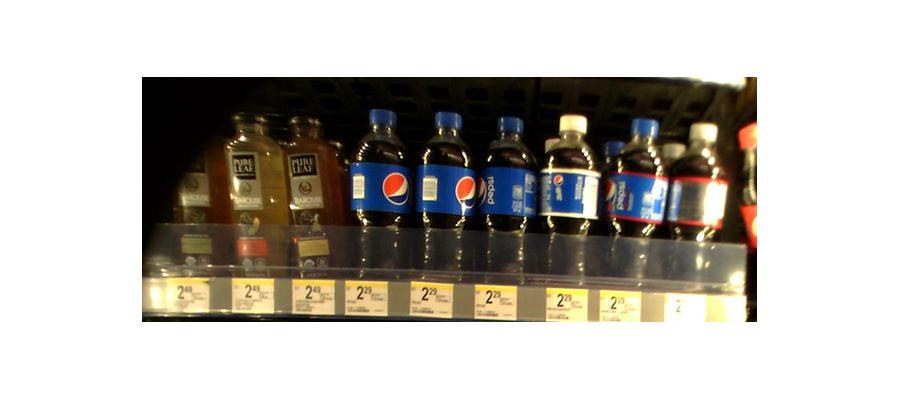bottle: (603, 115, 665, 287), (349, 105, 410, 276), (540, 113, 600, 286), (282, 113, 344, 279), (664, 119, 725, 284), (416, 111, 476, 275), (478, 116, 535, 283), (227, 113, 284, 276), (173, 129, 220, 271)
